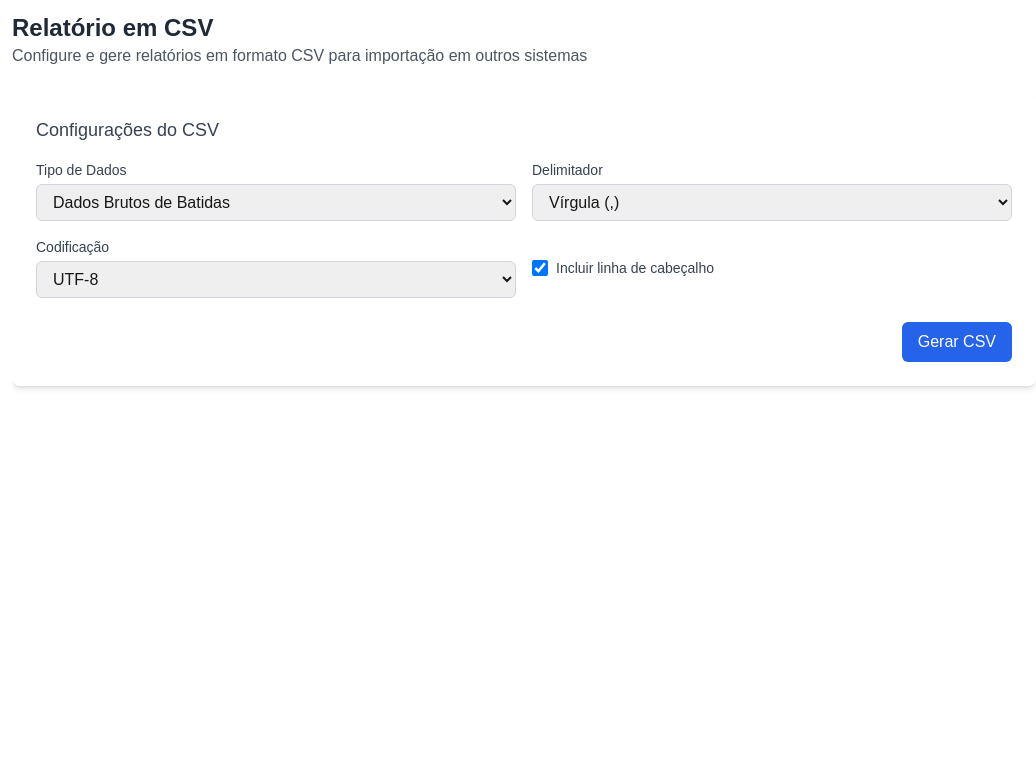
Páginas de Exportação de Relatórios › RelatorioCsvPage › gera CSV quando o botão é clicado
Click the button "Gerar CSV" at coordinates (957, 342), box [902,322,1012,362]
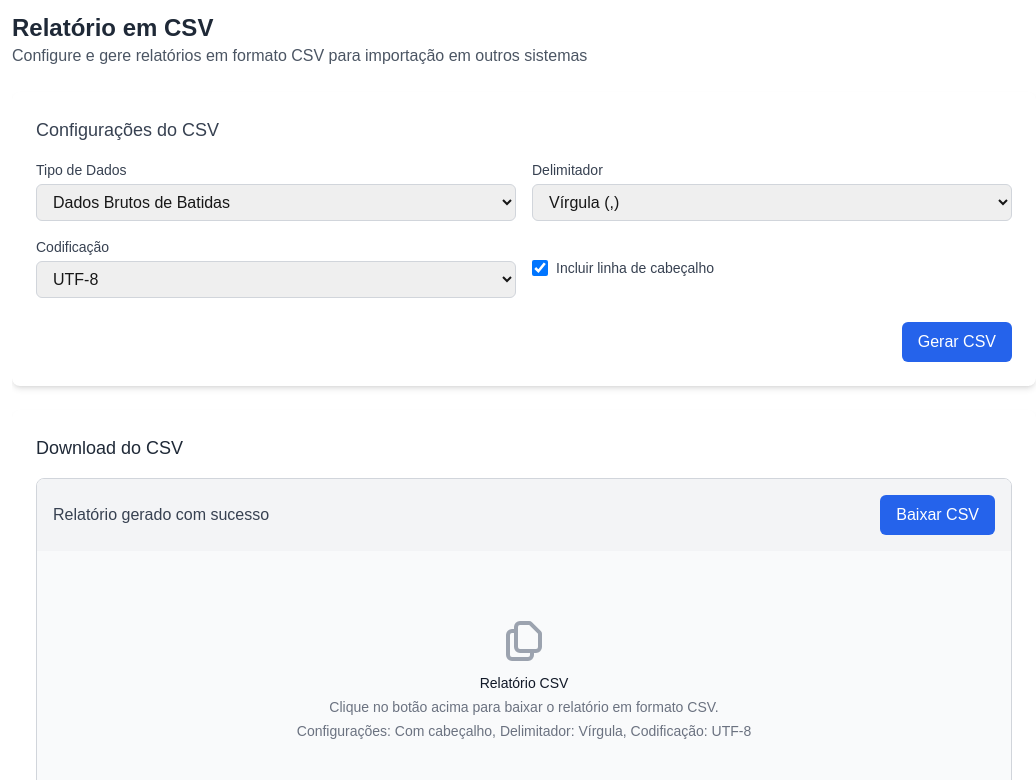
Expected: the text "Relatório gerado com sucesso" is shown, [53,503,269,527]
Expected: the link "Baixar CSV" is shown, [880,495,995,535]
